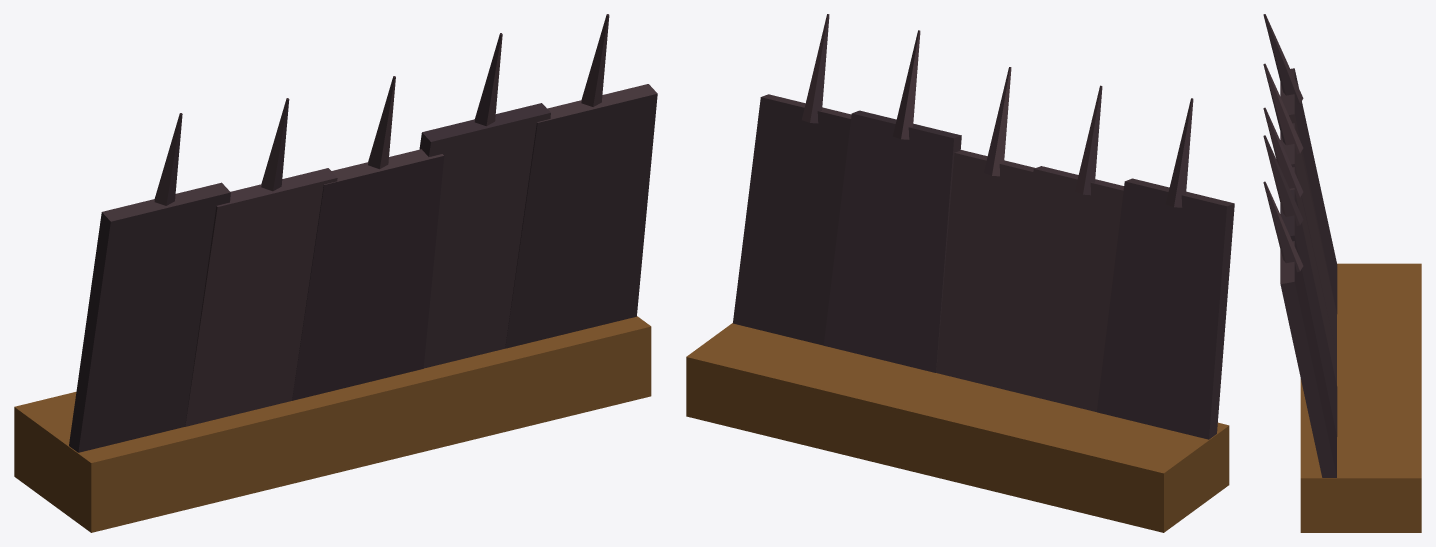
Rendered from hive_fence.glb.
3 views of the same model, side by side, from view 1: azimuth 30°, elevation 25°; view 2: azimuth 150°, elevation 25°; view 3: azimuth 270°, elevation 25° (orthographic). The views are drawn at different scales.
Parts seen in each view (by area): view 1: hive_fence; view 2: hive_fence; view 3: hive_fence.
Boxes of the visible parts, x1,y1,x2,y2 form: hive_fence: (14,14,657,532); hive_fence: (686,14,1234,532); hive_fence: (1263,14,1421,532).
Size of the model in its own units: 4.2 by 3.02 by 1.31.
1 material, 1 textured.
